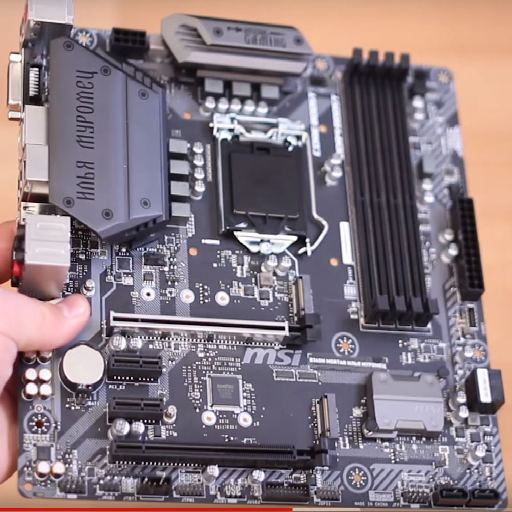CPU: (215, 131, 313, 257)
GPU: (104, 308, 324, 346), (105, 437, 340, 471)
MOTHERBOARD: (12, 9, 509, 512)
RAM: (340, 46, 443, 330)
SSD: (309, 393, 342, 441), (287, 276, 316, 317)
